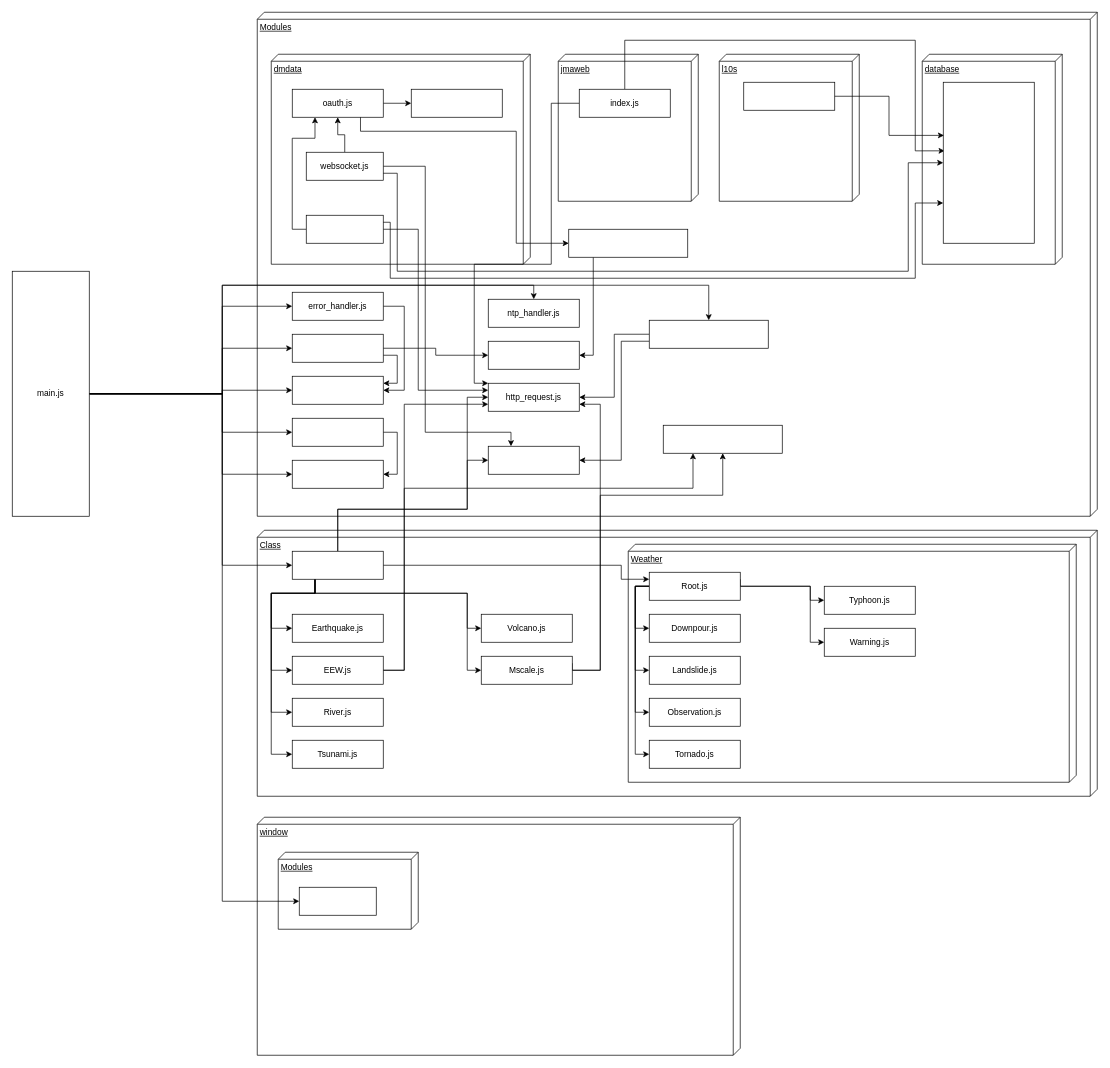
Image size: 1110x1068. Some labels were removed from this diagram. Here are the shapes that lost their labels. From the top down, the centre of each, then its label:
At (x=456, y=103): "oauth_localserver.js".
At (x=789, y=96): "tcp.js".
At (x=988, y=162): "いろいろ".
At (x=344, y=229): "http.js".
At (x=628, y=243): "safestorage_handler.js".
At (x=337, y=348): "config_reader.js".
At (x=708, y=334): "network_activity_provider.js".
At (x=533, y=355): "appdata_handler.js".
At (x=337, y=390): "application_config.js".
At (x=337, y=432): "menubar_handler.js".
At (x=722, y=439): "handle_interval_function.js".
At (x=337, y=474): "window_handler.js".
At (x=533, y=460): "websocket_handler.js".
At (x=337, y=565): "Information_Master.js".
At (x=337, y=901): "UpdateChecker.js".
